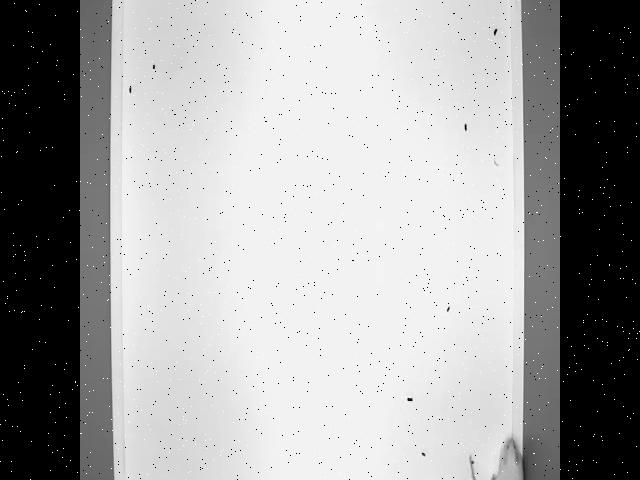Tikus: (468, 436, 524, 480)
